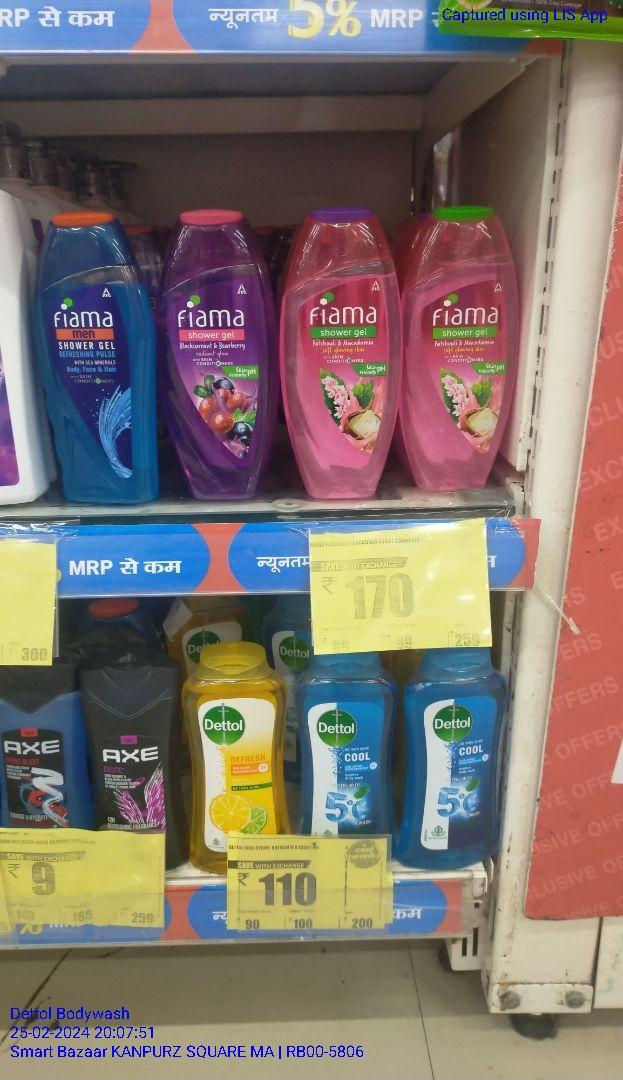Dettol_Bodywash_Cool: (408, 647, 510, 869), (302, 655, 394, 837)
Dettol_Bodywash_Refresh: (183, 649, 285, 875)
Fiama_Shower_Gel_Patchouli_and_Macadamia_250ML: (286, 209, 402, 499), (404, 209, 520, 489)
